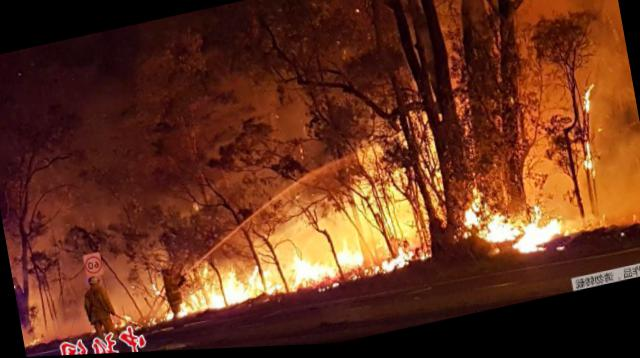fire: (283, 241, 337, 293), (223, 269, 253, 307), (488, 215, 520, 246), (512, 227, 542, 259), (380, 247, 415, 273), (464, 197, 489, 230), (536, 221, 565, 247), (338, 241, 364, 270), (263, 270, 285, 296), (184, 290, 206, 315), (206, 285, 227, 310), (248, 267, 266, 296), (581, 146, 596, 176), (582, 90, 595, 116)
